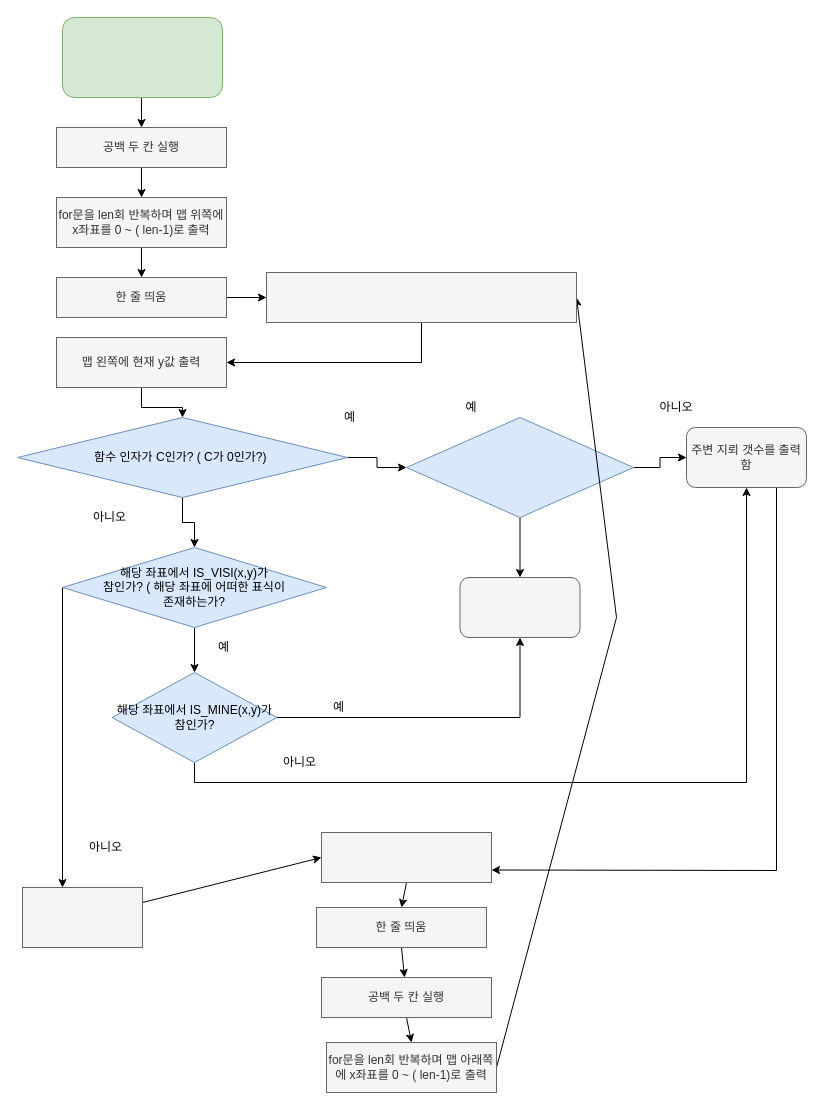
Some shapes in this 824 by 1110 pixel diagram are drawn without their labels. The shapes that lost their labels are listed below. From the top down, each one's centre as x and y in pixels, then its label:
At pixel 142 57: "Print(int C) 시작".
At pixel 421 297: "for문을 돌기. 초기 y값 col-1, y>=0까지 y는 1씩감소)".
At pixel 520 467: "해당 좌표에서 IS_MINE(x,y)이 참인가? (해당 자리에 지뢰가 있나?".
At pixel 519 607: "'*' (별표)를 출력한다.".
At pixel 406 857: "맵 오른쪽에 현재 y값 출력".
At pixel 82 917: "해당 좌표에 입력된 인자에 맞는 표식을 출력함.".
